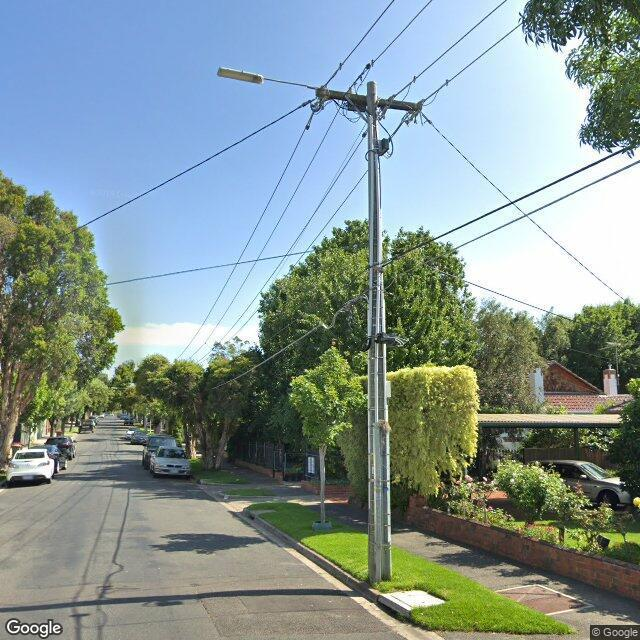crossarm: (305, 61, 449, 138)
streetlight: (217, 67, 316, 91)
timber-pole: (366, 80, 392, 581)
